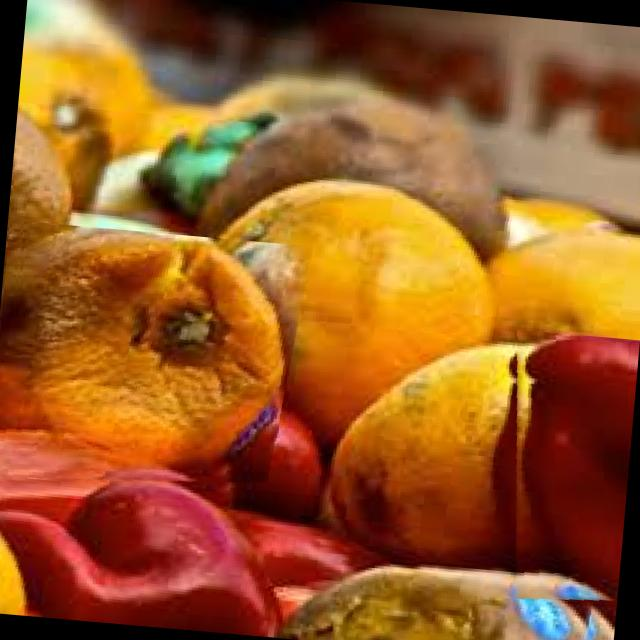Organic: (0, 71, 640, 640), (1, 221, 314, 504), (494, 329, 640, 607)
